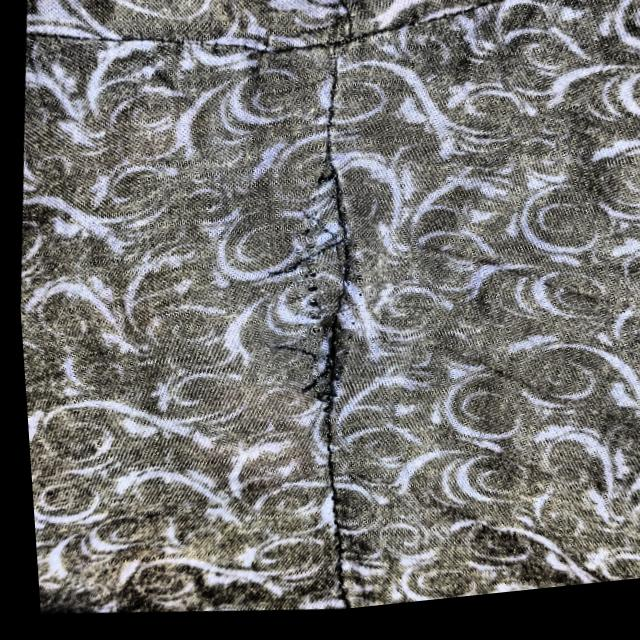seam: (233, 151, 436, 451)
